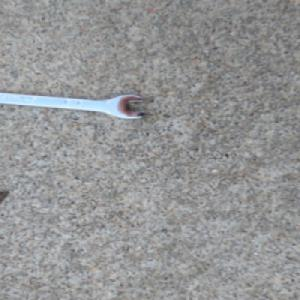Wrench: (0, 90, 149, 120)
